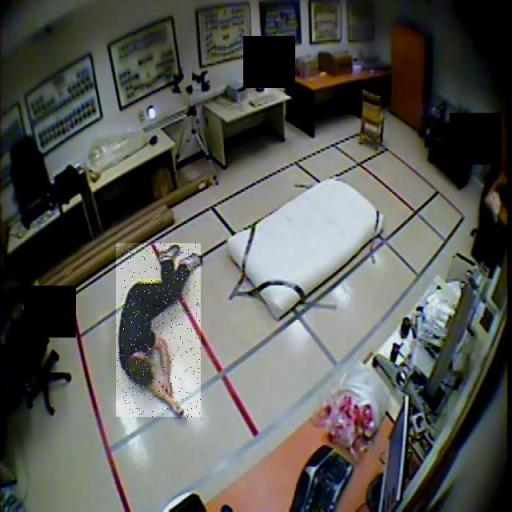Fall: (116, 243, 201, 417)
